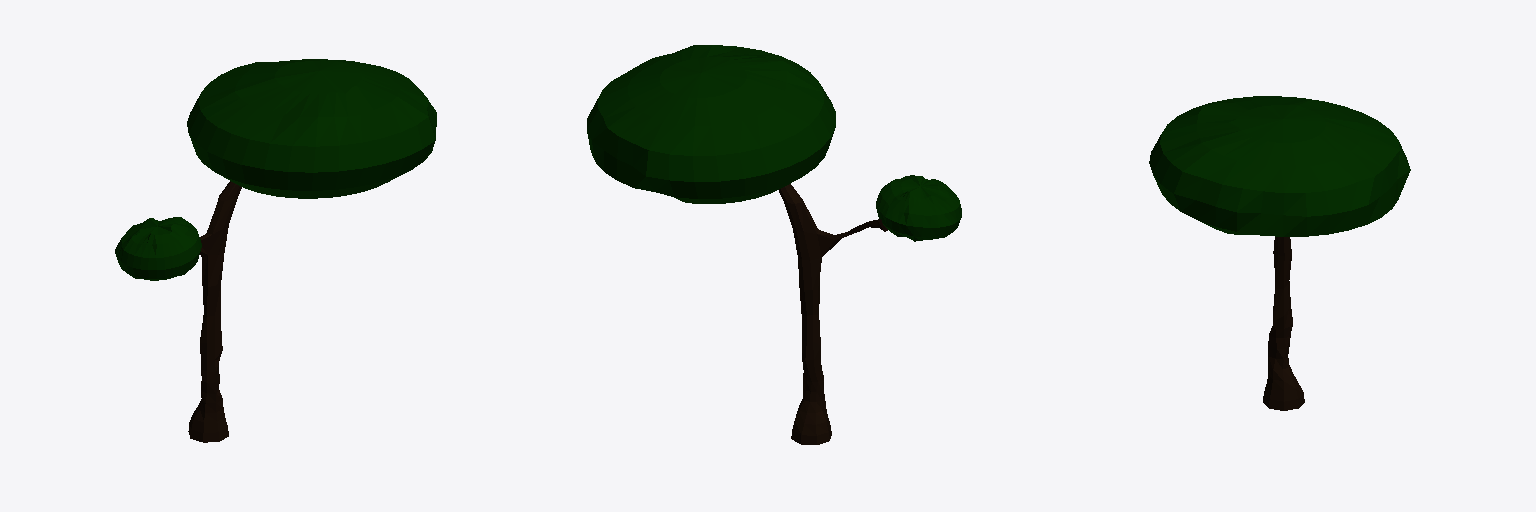
File: Tree.obj
3 views of the same model, side by side, from view 1: azimuth 30°, elevation 25°; view 2: azimuth 150°, elevation 25°; view 3: azimuth 270°, elevation 25° (orthographic).
Parts seen in each view (by area): view 1: Cylinder; view 2: Cylinder; view 3: Cylinder.
Part boxes in pixels (bbox=[...]): Cylinder: bbox=[115, 59, 436, 442]; Cylinder: bbox=[587, 45, 961, 444]; Cylinder: bbox=[1149, 96, 1410, 410].
Bounding box in the file's own units: 10.11 × 10.04 × 7.07.